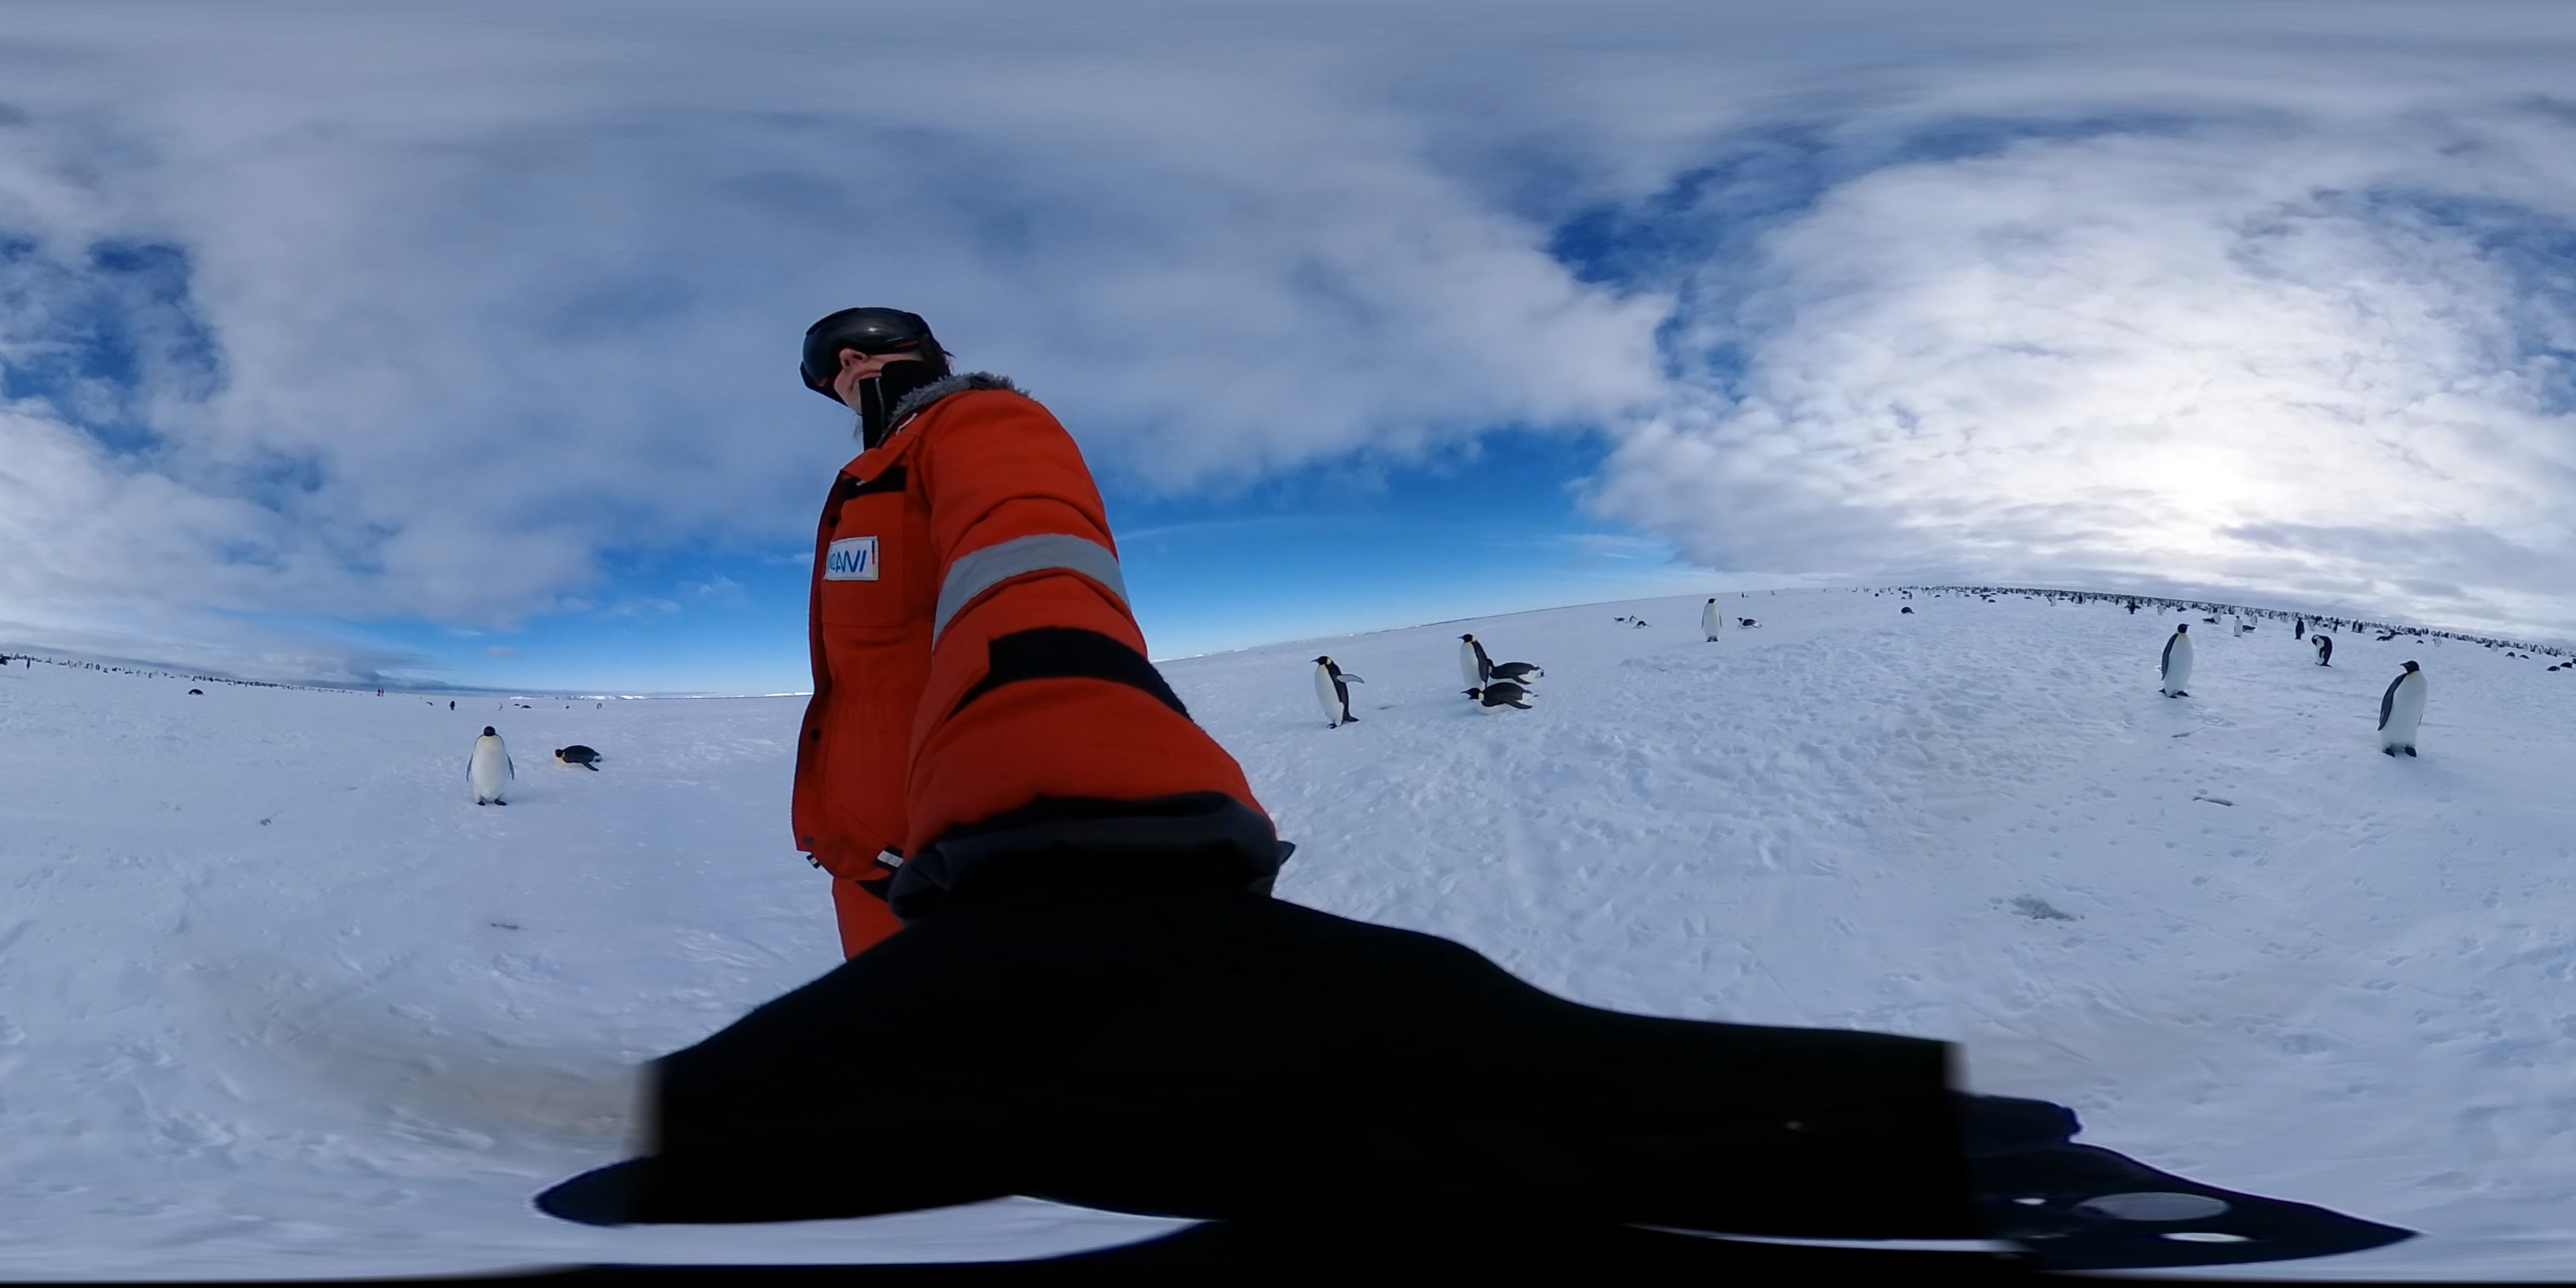adult_standing_penguin: (2374, 660, 2433, 762), (1306, 654, 1365, 731), (465, 721, 513, 808), (2154, 623, 2198, 700), (1456, 632, 1488, 700), (1699, 595, 1725, 644), (2308, 631, 2338, 670), (2233, 613, 2246, 641)
adult_toboggan_penguin: (1456, 685, 1538, 713), (1482, 659, 1546, 690), (552, 741, 606, 772), (1733, 611, 1763, 629), (1633, 618, 1649, 631), (187, 688, 202, 697)
researcher: (798, 297, 1281, 1204)
